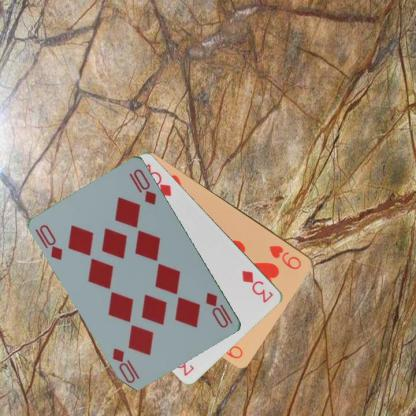10d: (204, 289, 235, 330), (37, 222, 65, 262)
3d: (239, 268, 275, 304)
9h: (266, 243, 303, 271)
